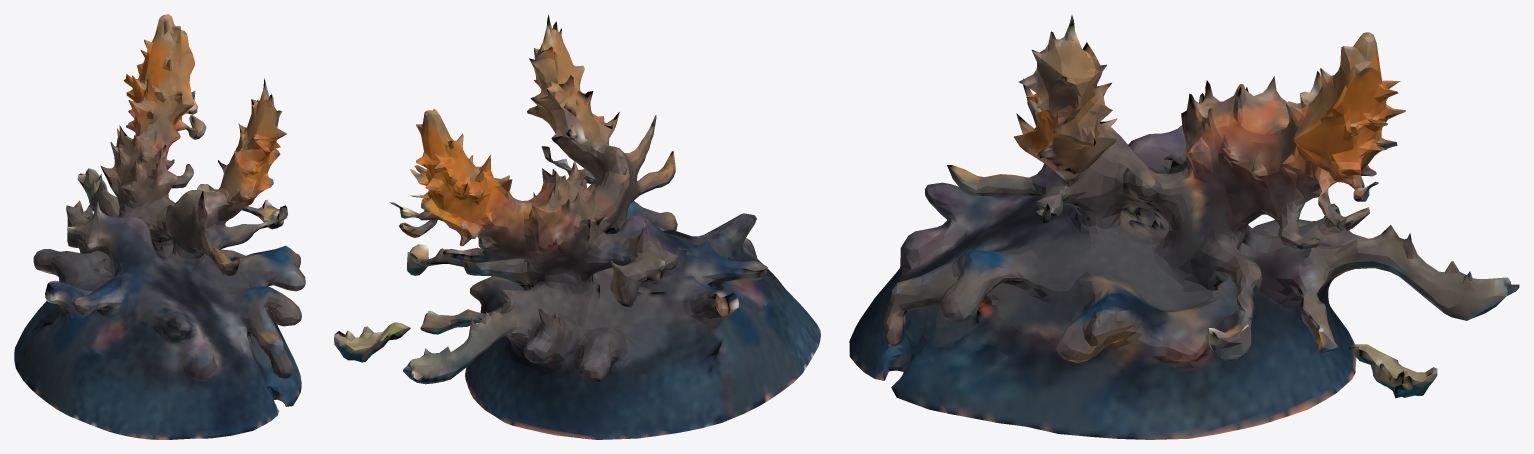
Rendered from Plant2.glb.
3 views of the same model, side by side, from view 1: azimuth 30°, elevation 25°; view 2: azimuth 150°, elevation 25°; view 3: azimuth 270°, elevation 25° (orthographic). The views are drawn at different scales.
Visible parts, largest first — view 1: model.014_LOD0; view 2: model.014_LOD0; view 3: model.014_LOD0.
Part boxes in pixels (x1,y1,x2,y2): model.014_LOD0: [14, 14, 305, 439]; model.014_LOD0: [334, 14, 820, 439]; model.014_LOD0: [849, 15, 1519, 439].
Size of what is drawn, in the model's own units: 0.4152 by 0.3866 by 0.5773.
1 material, 1 textured.
